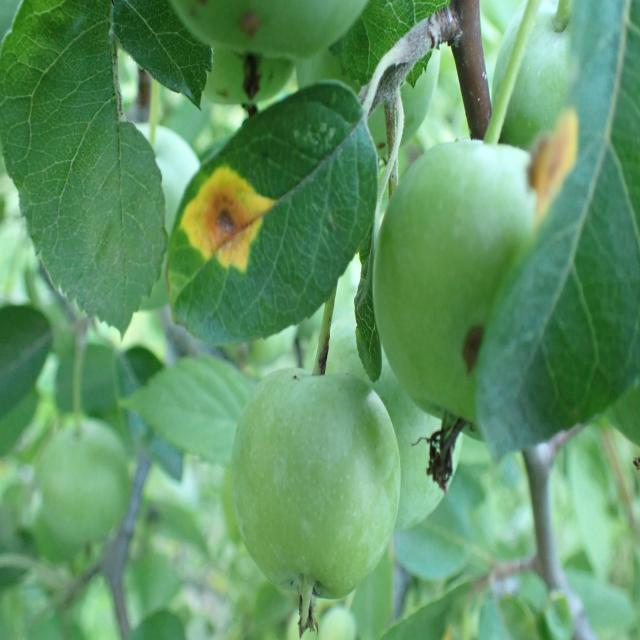Rust: (166, 128, 288, 296), (497, 100, 595, 272)
